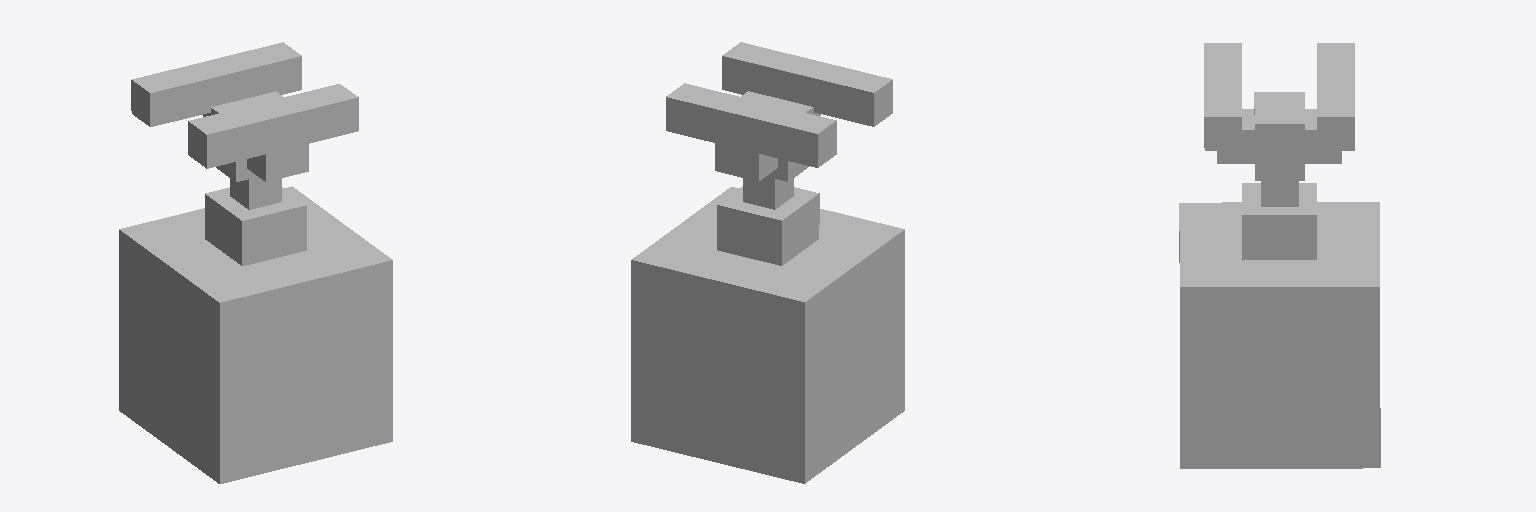
The model's file is laser.obj.
The picture shows the model from 3 angles: view 1: azimuth 30°, elevation 25°; view 2: azimuth 150°, elevation 25°; view 3: azimuth 270°, elevation 25°; orthographic projection.
Parts seen in each view (by area): view 1: baseCube, turretLeft, turretRight, baseConnector0, phalangeAxle, baseConnector1, phalange; view 2: baseCube, turretRight, turretLeft, baseConnector0, phalangeAxle, baseConnector1, phalange; view 3: baseCube, baseConnector0, phalange, turretRight, turretLeft, phalangeAxle, baseConnector1.
Boxes of the visible parts, <box> form: baseCube: <box>119,186,392,483</box>; turretLeft: <box>188,84,358,168</box>; turretRight: <box>131,42,301,126</box>; baseConnector0: <box>205,187,306,265</box>; phalangeAxle: <box>203,113,308,181</box>; baseConnector1: <box>230,177,281,209</box>; phalange: <box>211,91,282,181</box>; baseCube: <box>631,187,904,483</box>; turretRight: <box>666,83,836,167</box>; turretLeft: <box>722,42,892,126</box>; baseConnector0: <box>717,186,819,265</box>; phalangeAxle: <box>715,113,820,181</box>; baseConnector1: <box>743,177,793,209</box>; phalange: <box>741,91,813,181</box>; baseCube: <box>1179,202,1380,468</box>; baseConnector0: <box>1242,183,1316,260</box>; phalange: <box>1254,92,1304,180</box>; turretRight: <box>1317,43,1354,150</box>; turretLeft: <box>1204,43,1241,150</box>; phalangeAxle: <box>1217,109,1341,163</box>; baseConnector1: <box>1261,181,1298,206</box>.
Bounding box in the file's own units: 16.08 × 30.05 × 16.06.